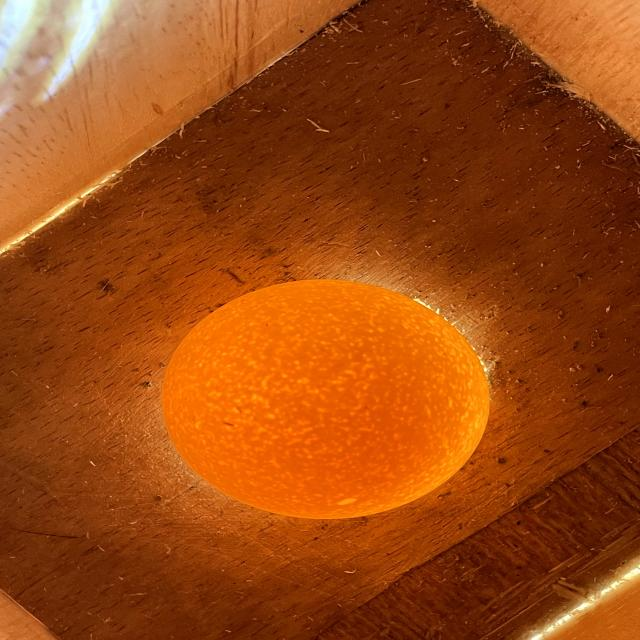infertile: (162, 280, 490, 519)
